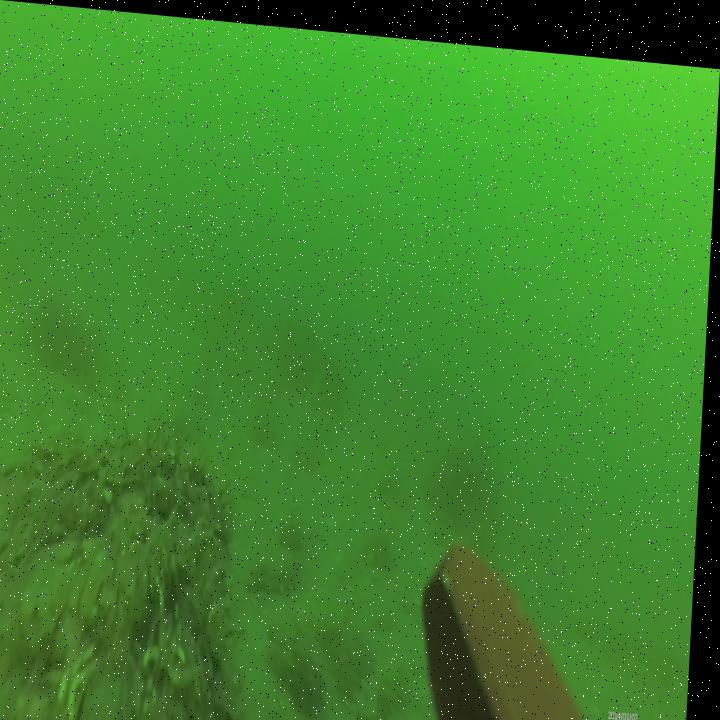holothurian: (352, 646, 420, 720), (253, 543, 311, 593)
